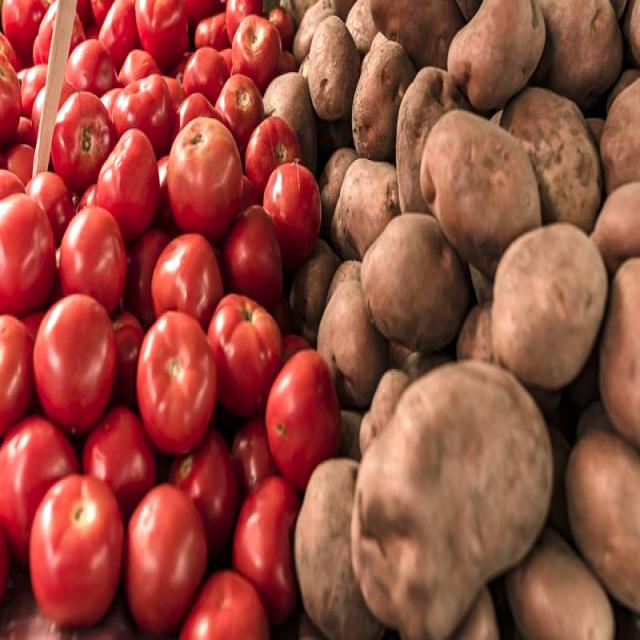potato: (347, 349, 552, 640), (418, 88, 551, 282), (485, 202, 613, 375), (356, 208, 482, 348), (303, 9, 363, 130)
tomato: (21, 462, 125, 634), (116, 459, 211, 640), (131, 291, 222, 460), (260, 327, 346, 485), (30, 283, 118, 437), (162, 103, 246, 243), (208, 278, 282, 429), (93, 114, 163, 243)
